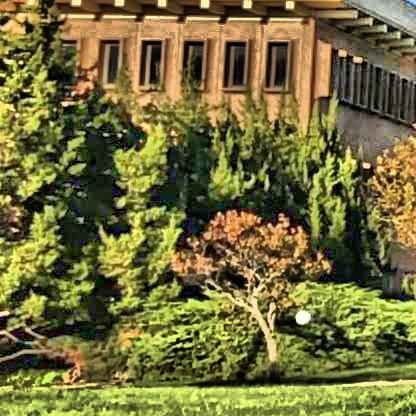golfball: (292, 305, 309, 322)
